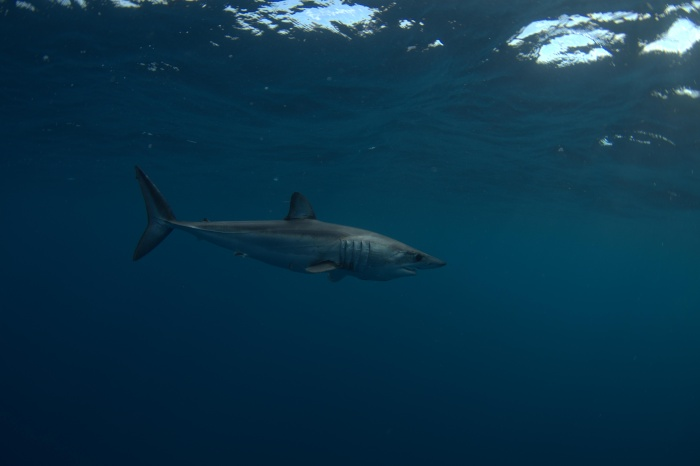Mako: (123, 159, 454, 300)
